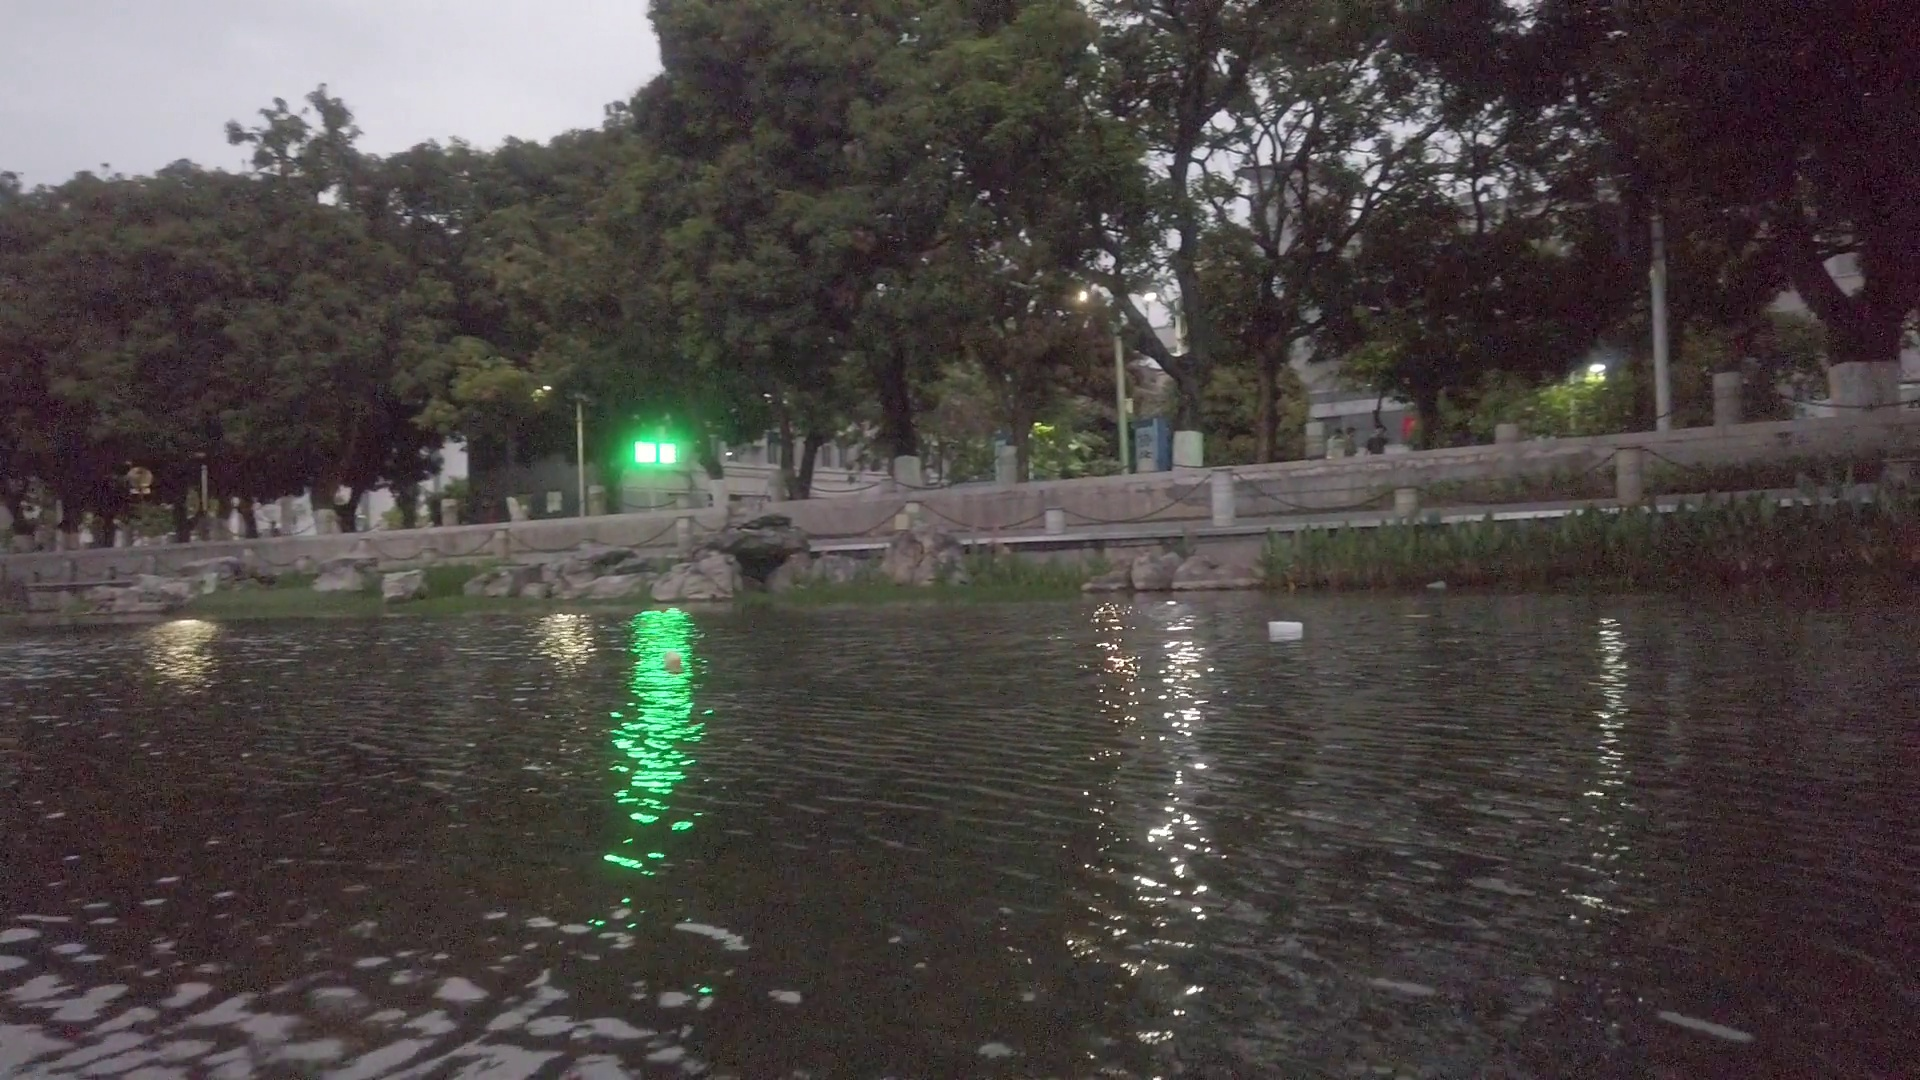bottle: (663, 650, 683, 673)
carton: (1269, 618, 1305, 636)
